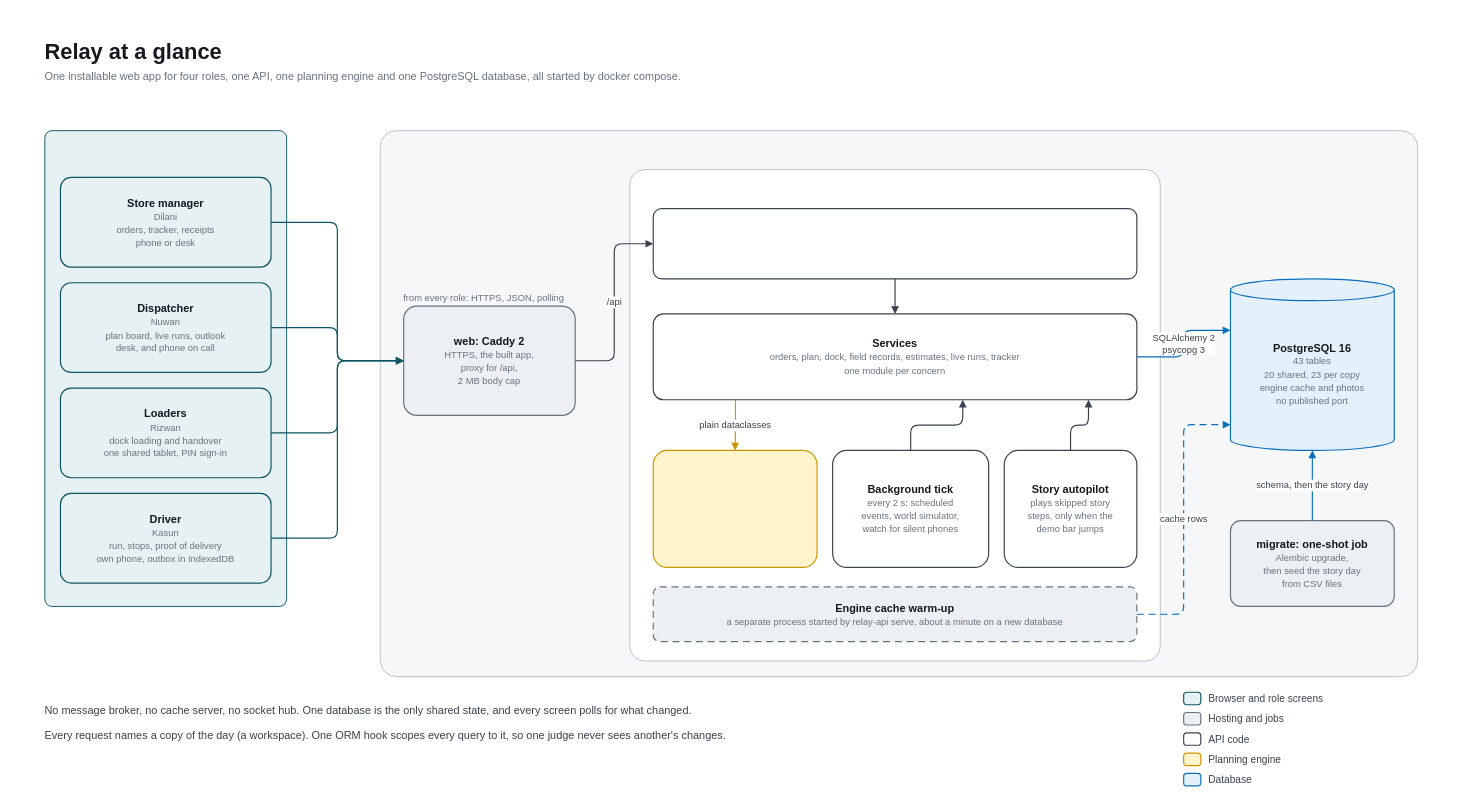
This 1462x807 diagram has some shape labels left out. Each missing label, with the box of its shape:
api: one FastAPI process on Uvicorn: (629, 169, 1160, 661)
Browsers one installable web app: (44, 130, 287, 607)
One docker compose stack a laptop, or one EC2 server in Mumbai: (379, 130, 1418, 677)
relay_engine library with no database: rules, clocks, proposal, estimate: (652, 450, 817, 568)
Routers client header, then workspace, then role check, then one commit: (652, 208, 1137, 279)
